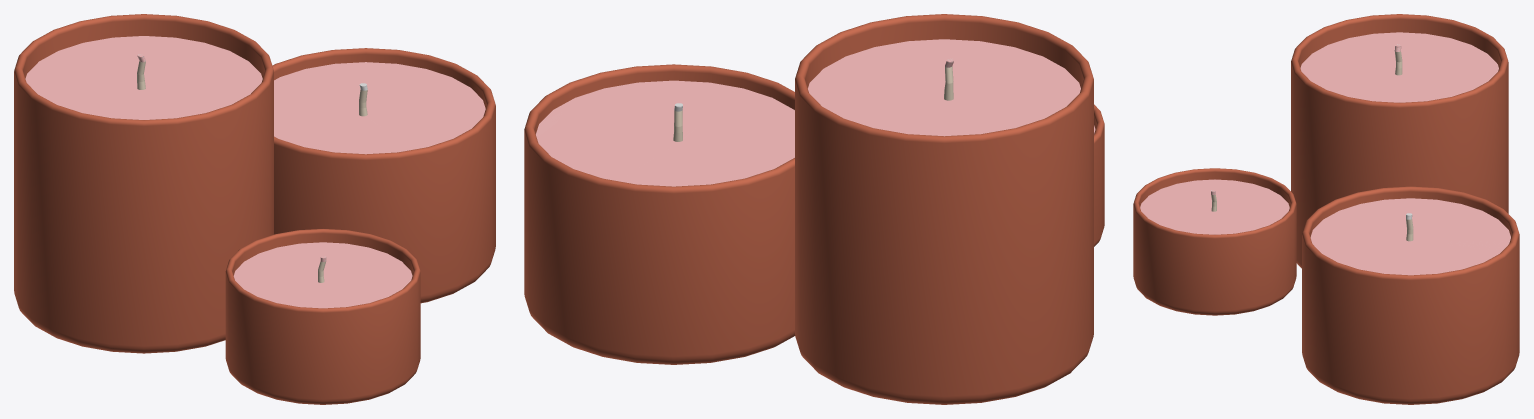
File: velas3.glb
3 renders of one model, left to right at view 1: azimuth 30°, elevation 25°; view 2: azimuth 150°, elevation 25°; view 3: azimuth 270°, elevation 25°, orthographic. The views are drawn at different scales.
Visible parts, largest first — view 1: group_4, group_7, group_1, group_8.001, group_5.001, group_2.001; view 2: group_4, group_7, group_8.001, group_5.001, group_1; view 3: group_7, group_4, group_1, group_8.001, group_5.001, group_2.001.
Part boxes in pixels (bbox=[...]): group_4: bbox=[14, 14, 273, 353]; group_7: bbox=[272, 48, 495, 303]; group_1: bbox=[225, 229, 420, 404]; group_8.001: bbox=[274, 62, 485, 154]; group_5.001: bbox=[25, 36, 262, 119]; group_2.001: bbox=[233, 242, 412, 308]; group_4: bbox=[795, 14, 1093, 404]; group_7: bbox=[524, 64, 795, 364]; group_8.001: bbox=[536, 80, 794, 186]; group_5.001: bbox=[808, 39, 1080, 136]; group_1: bbox=[1094, 104, 1104, 246]; group_7: bbox=[1302, 186, 1519, 404]; group_4: bbox=[1291, 14, 1508, 268]; group_1: bbox=[1133, 168, 1296, 315]; group_8.001: bbox=[1310, 198, 1510, 275]; group_5.001: bbox=[1300, 32, 1498, 102]; group_2.001: bbox=[1140, 179, 1289, 234].
Bounding box in the file's own units: 4.76 × 2.66 × 4.19.
